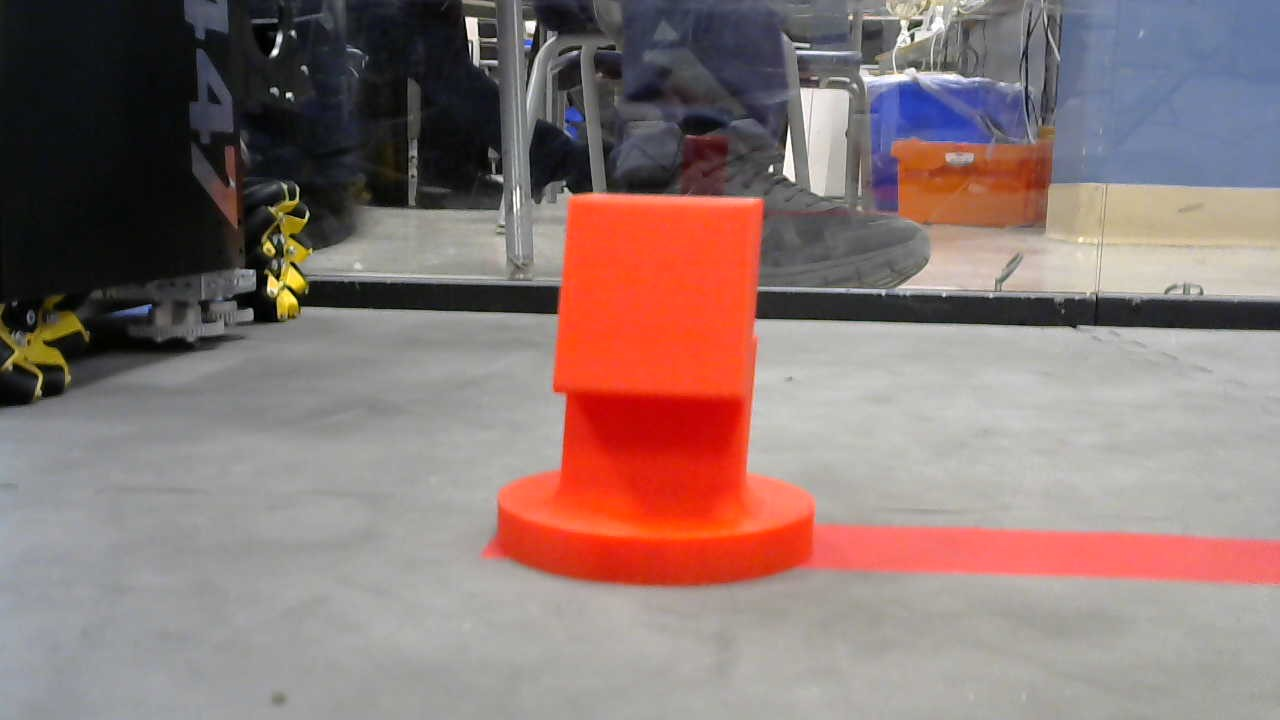redobject: (492, 192, 817, 588)
